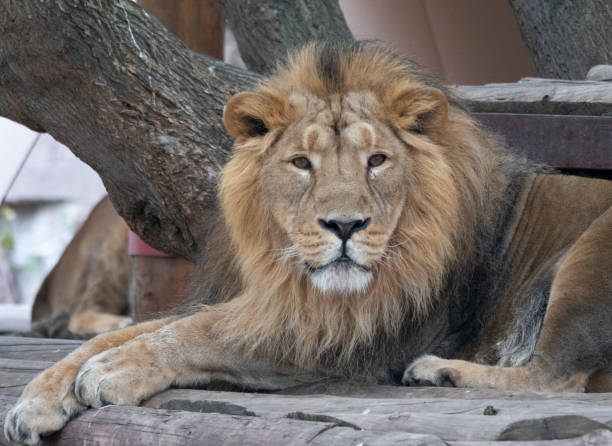lion: (147, 6, 569, 381)
